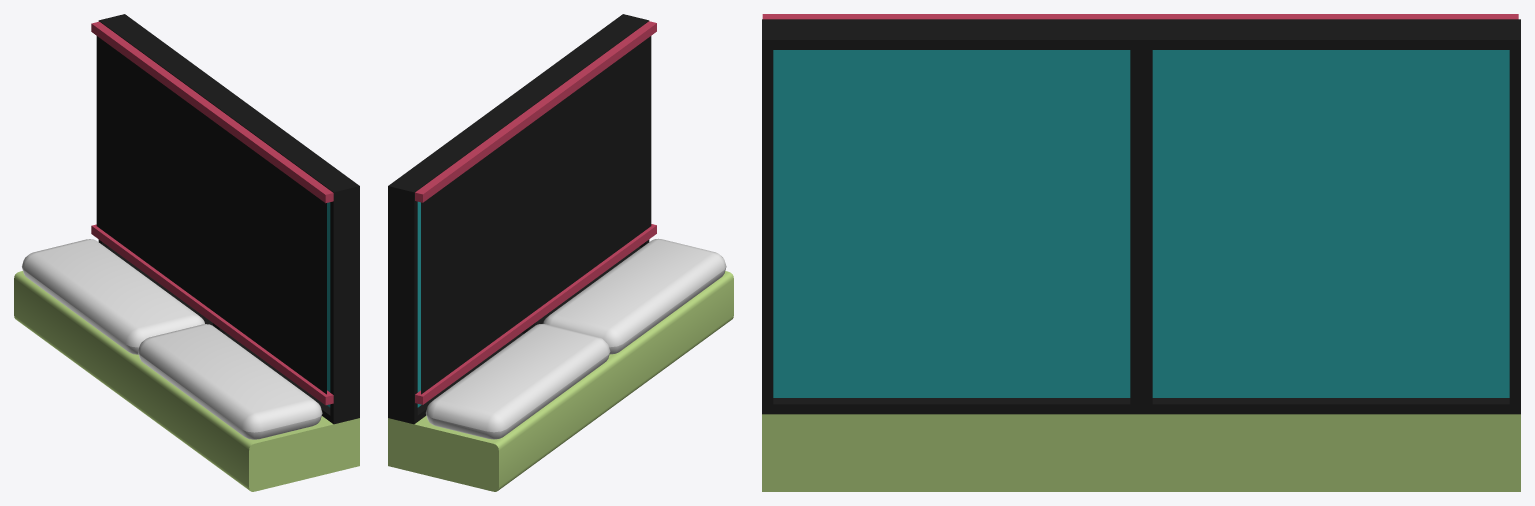
Rendered from Window.FBX.
3 views of the same model, side by side, from view 1: azimuth 30°, elevation 25°; view 2: azimuth 150°, elevation 25°; view 3: azimuth 270°, elevation 25° (orthographic). The views are drawn at different scales.
Parts seen in each view (by area): view 1: Box002, Box001, ChamferBox002, ChamferBox001; view 2: Box002, Box001, ChamferBox001, ChamferBox002; view 3: Box001, Box002.
Boxes of the visible parts, bbox=[...] form: Box002: bbox=[91, 21, 333, 405]; Box001: bbox=[14, 14, 359, 491]; ChamferBox002: bbox=[138, 324, 322, 439]; ChamferBox001: bbox=[22, 239, 204, 354]; Box002: bbox=[415, 21, 656, 404]; Box001: bbox=[388, 14, 733, 491]; ChamferBox001: bbox=[426, 324, 610, 439]; ChamferBox002: bbox=[543, 238, 726, 354]; Box001: bbox=[762, 19, 1520, 491]; Box002: bbox=[762, 14, 1518, 19].
Size of the model in its own units: 27.75 by 67 by 102.
